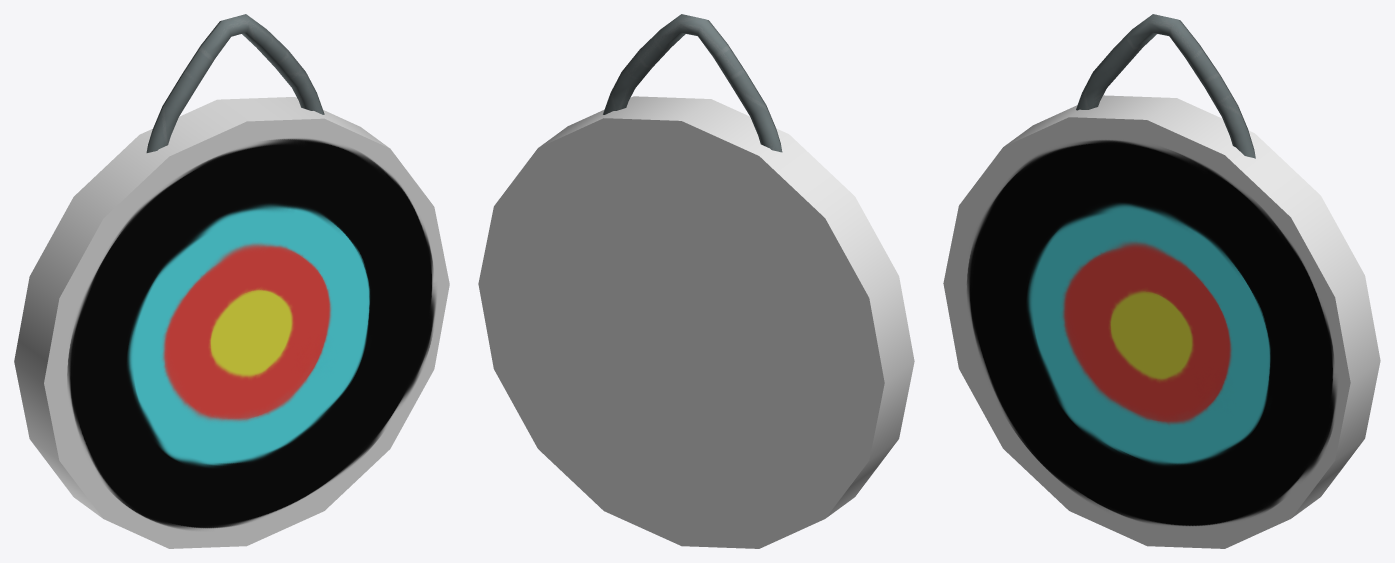
The model's file is dianaSolitaCuerdita.obj.
The picture shows the model from 3 angles, left to right: view 1: azimuth 30°, elevation 25°; view 2: azimuth 150°, elevation 25°; view 3: azimuth 330°, elevation 25°; orthographic projection.
Parts seen in each view (by area): view 1: pCylinder29; view 2: pCylinder29; view 3: pCylinder29.
Part boxes in pixels (<box>): pCylinder29: <box>14,14,449,548</box>; pCylinder29: <box>478,14,914,548</box>; pCylinder29: <box>943,14,1380,548</box>.
Size of the model in its own units: 16.13 by 19.65 by 2.05.
